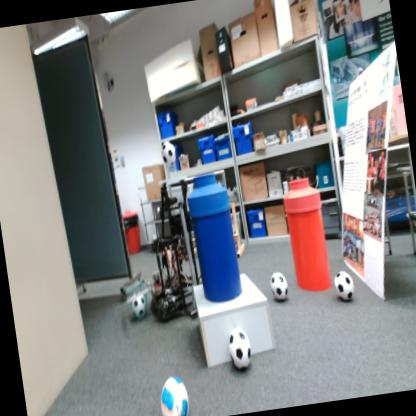ball: (154, 372, 190, 416), (226, 326, 254, 371), (332, 270, 355, 303), (270, 270, 290, 302), (160, 140, 177, 168), (130, 293, 146, 318)
